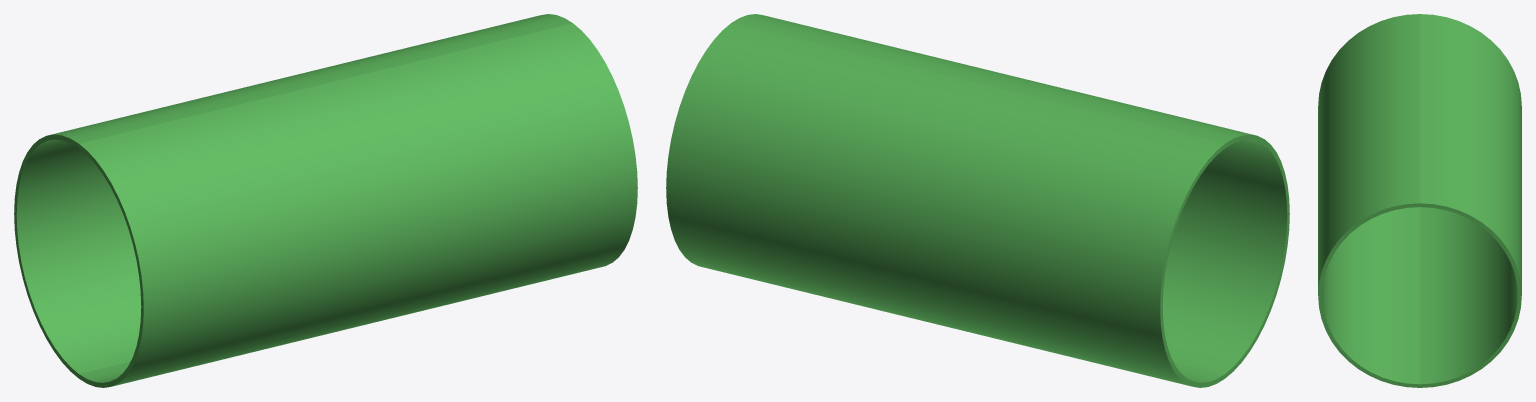
The model's file is closed_drain_system_pressure.glb.
3 views of the same model, side by side, from view 1: azimuth 30°, elevation 25°; view 2: azimuth 150°, elevation 25°; view 3: azimuth 270°, elevation 25° (orthographic). The views are drawn at different scales.
Visible parts, largest first — view 1: pressure__front, pressure__back; view 2: pressure__back, pressure__front; view 3: pressure__back, pressure__front.
Part boxes in pixels (bbox=[...]): pressure__front: bbox=[79, 23, 637, 387]; pressure__back: bbox=[14, 14, 572, 378]; pressure__back: bbox=[666, 23, 1224, 387]; pressure__front: bbox=[731, 14, 1289, 378]; pressure__back: bbox=[1420, 14, 1521, 387]; pressure__front: bbox=[1318, 14, 1419, 387].
Bounding box in the file's own units: 2.2 × 1 × 1.
